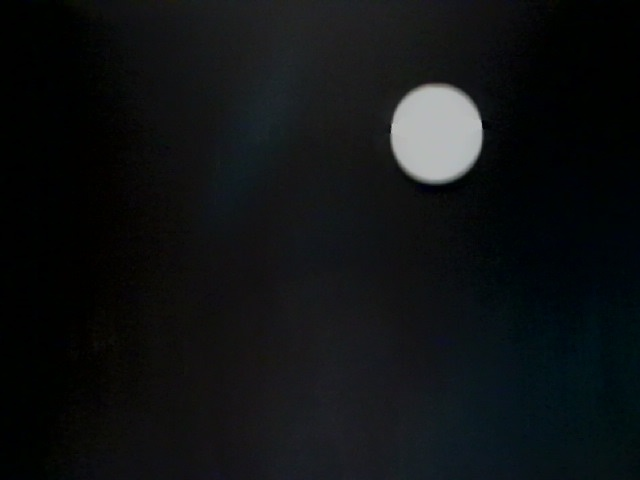QTLJ: (332, 36, 553, 313)
